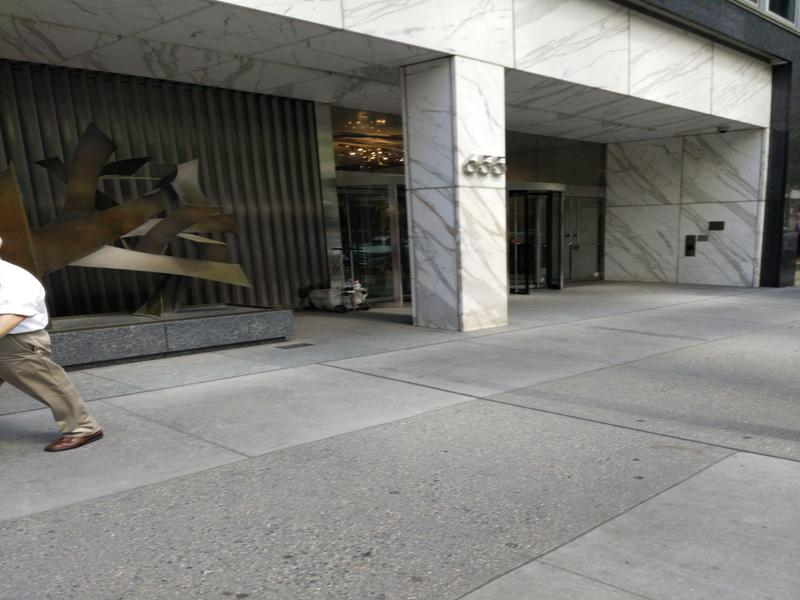revolving_door: (509, 182, 564, 294)
